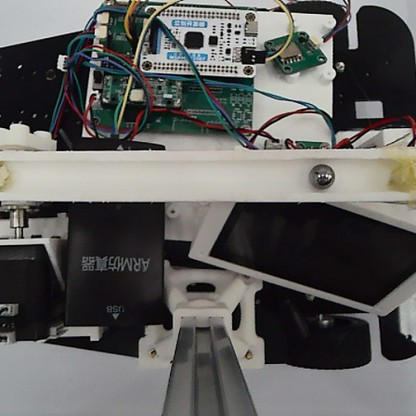ironball: (307, 161, 337, 190)
